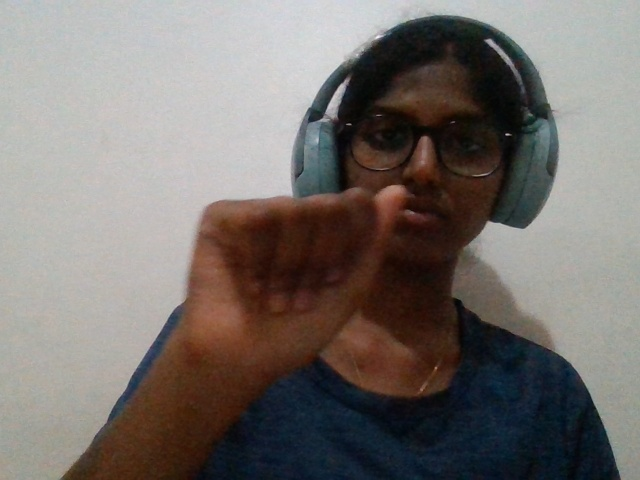A: (134, 177, 423, 418)
